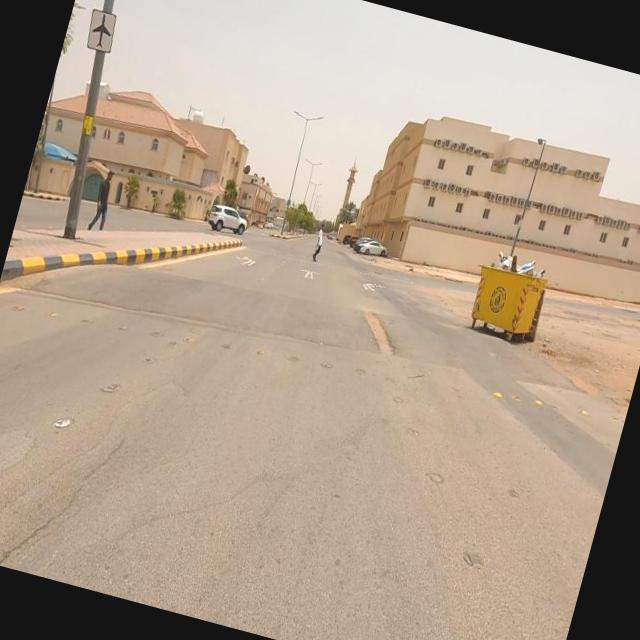debris: (436, 190, 594, 330)
